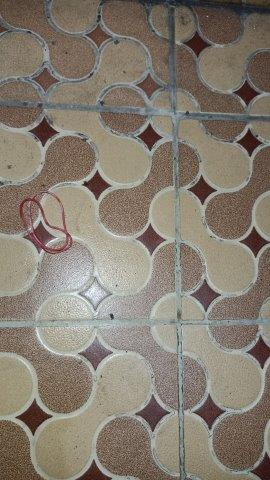karet: (20, 191, 73, 255)
